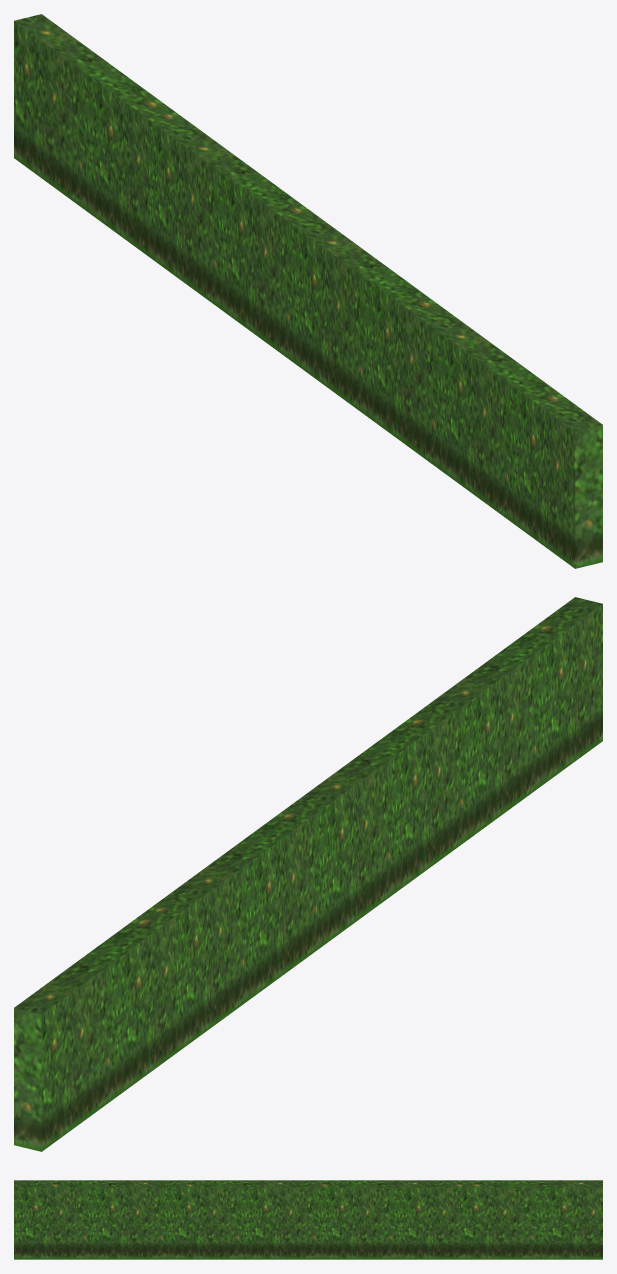
The model's file is BUSH01.glb.
3 renders of one model, top to bottom at view 1: azimuth 30°, elevation 25°; view 2: azimuth 150°, elevation 25°; view 3: azimuth 270°, elevation 25°, orthographic. The views are drawn at different scales.
Parts seen in each view (by area): view 1: BUSH01; view 2: BUSH01; view 3: BUSH01.
Part boxes in pixels (bbox=[...]): BUSH01: bbox=[14, 14, 602, 568]; BUSH01: bbox=[14, 597, 602, 1151]; BUSH01: bbox=[14, 1180, 602, 1259].
Size of the model in its own units: 64.83 by 306 by 2270.
2 materials, 2 textured.
